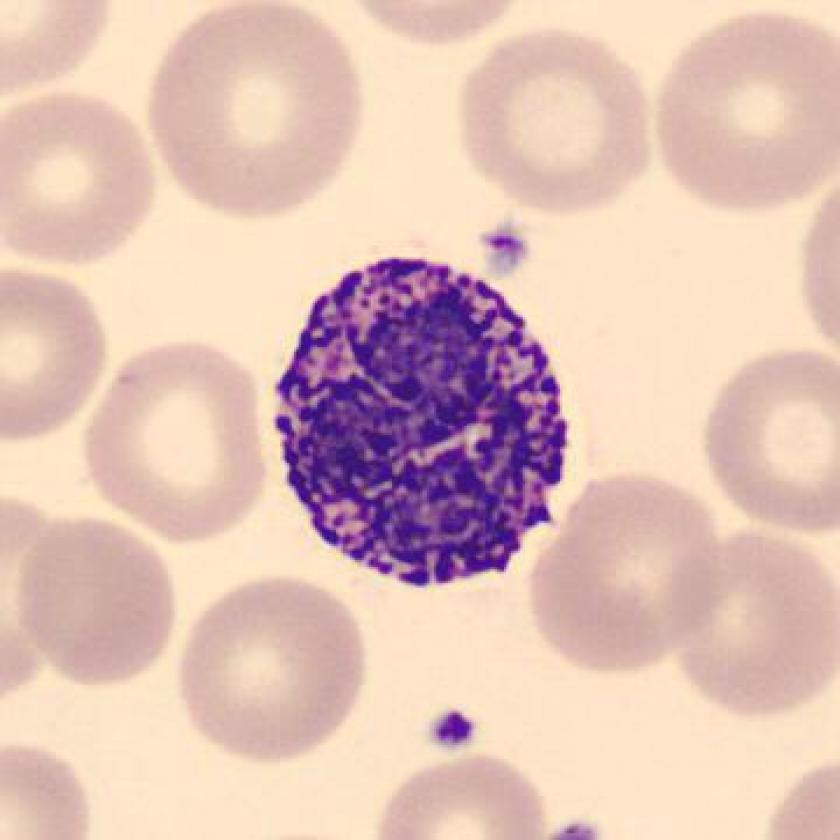basophil: (256, 249, 592, 591)
